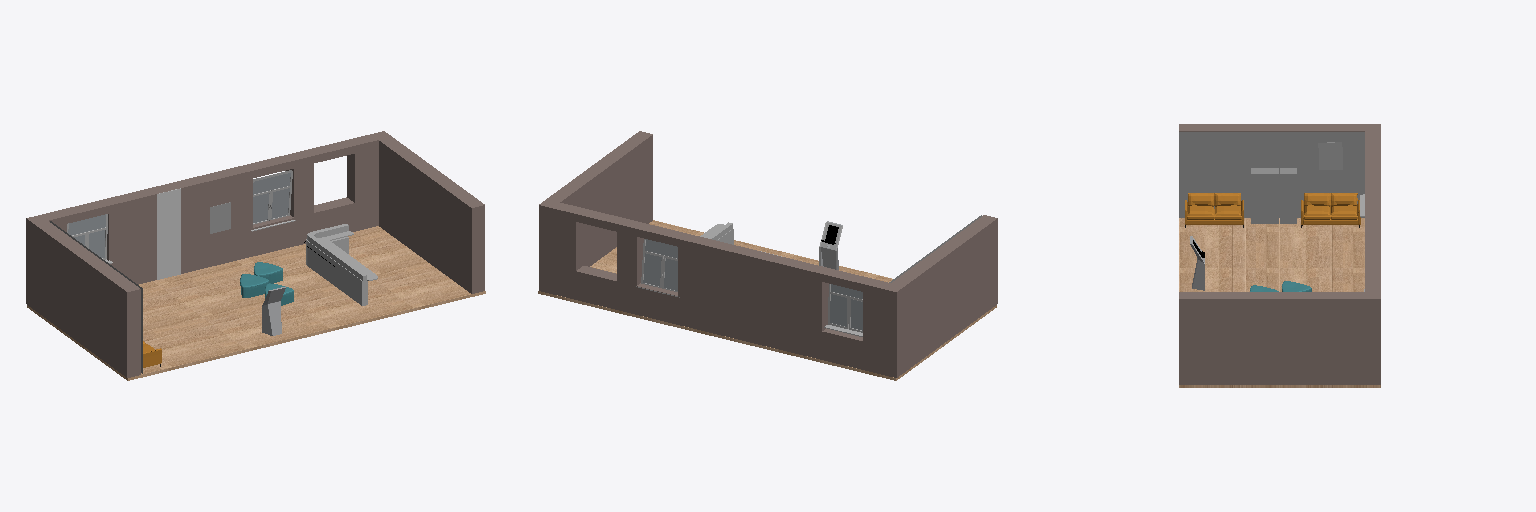
3 renders of one model, left to right at view 1: azimuth 30°, elevation 25°; view 2: azimuth 150°, elevation 25°; view 3: azimuth 270°, elevation 25°, orthographic.
Visible parts, largest first — view 1: Group_1071, Box003, Rectangle1, Plane2584, L-Ext007, Plane2585, Group_001, Object9429, Rectangle3, Cylinder14.Cylinder10.Cylinder11.001_Cylinder14.001, Box101; view 2: Group_1071, Box003, Plane2584, Plane2585, Group_001; view 3: Group_1071, Box003, wallPaint, Box437, Box444, Plane2587, Plane2588, Rectangle3.001.
Boxes of the visible parts, <box> form: Group_1071: <box>26,131,484,377</box>; Box003: <box>27,226,485,380</box>; Rectangle1: <box>157,188,180,279</box>; Plane2584: <box>251,170,295,231</box>; L-Ext007: <box>306,237,367,305</box>; Plane2585: <box>67,214,112,263</box>; Group_001: <box>262,286,285,335</box>; Object9429: <box>307,224,366,281</box>; Rectangle3: <box>210,202,230,233</box>; Cylinder14.Cylinder10.Cylinder11.001_Cylinder14.001: <box>240,274,269,297</box>; Box101: <box>318,231,377,280</box>; Group_1071: <box>539,131,997,377</box>; Box003: <box>538,220,996,380</box>; Plane2584: <box>636,239,679,297</box>; Plane2585: <box>824,284,862,336</box>; Group_001: <box>819,221,842,269</box>; Group_1071: <box>1179,124,1380,384</box>; Box003: <box>1179,218,1380,387</box>; wallPaint: <box>1179,132,1364,217</box>; Box437: <box>1301,193,1360,227</box>; Box444: <box>1185,193,1243,227</box>; Plane2587: <box>1251,168,1278,223</box>; Plane2588: <box>1280,168,1296,223</box>; Rectangle3.001: <box>1318,142,1342,169</box>.
Bounding box in the file's own units: 1.31 × 0.3102 × 0.6403.
Materials: 25 (1 with a texture image).